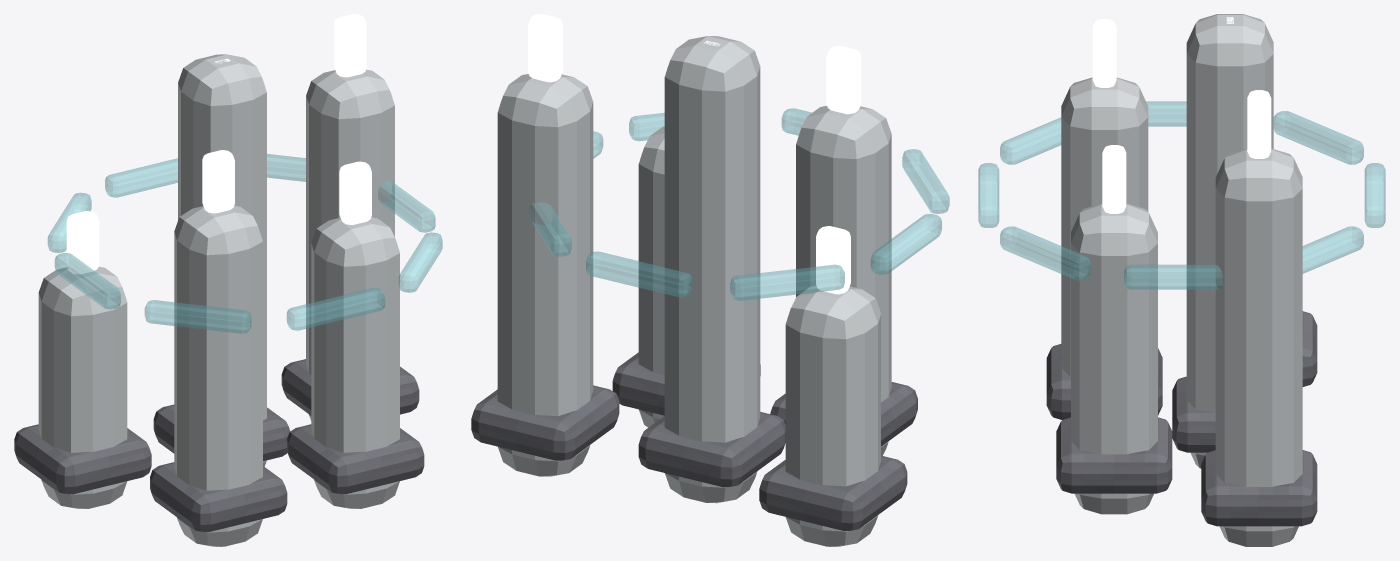
File: cult_airless_candle.glb
The picture shows the model from 3 angles, left to right: view 1: azimuth 30°, elevation 25°; view 2: azimuth 150°, elevation 25°; view 3: azimuth 270°, elevation 25°; orthographic projection. The views are drawn at different scales.
Parts seen in each view (by area): view 1: CULT_AIRLESS_CANDLE__Wax_2, CULT_AIRLESS_CANDLE__Wax_4, CULT_AIRLESS_CANDLE__Wax_1, CULT_AIRLESS_CANDLE__Wax_3, CULT_AIRLESS_CANDLE__Wax_5, CULT_AIRLESS_CANDLE__Oxygen_Fitting_2, CULT_AIRLESS_CANDLE__Oxygen_Fitting_4, CULT_AIRLESS_CANDLE__Oxygen_Fitting_1, CULT_AIRLESS_CANDLE__Pressure_Halo_06, CULT_AIRLESS_CANDLE__Pressure_Halo_05, CULT_AIRLESS_CANDLE__Flame_1, CULT_AIRLESS_CANDLE__Oxygen_Fitting_5 (+10 smaller); view 2: CULT_AIRLESS_CANDLE__Wax_3, CULT_AIRLESS_CANDLE__Wax_5, CULT_AIRLESS_CANDLE__Wax_1, CULT_AIRLESS_CANDLE__Wax_2, CULT_AIRLESS_CANDLE__Wax_4, CULT_AIRLESS_CANDLE__Oxygen_Fitting_1, CULT_AIRLESS_CANDLE__Oxygen_Fitting_5, CULT_AIRLESS_CANDLE__Oxygen_Fitting_3, CULT_AIRLESS_CANDLE__Pressure_Halo_08, CULT_AIRLESS_CANDLE__Pressure_Halo_01, CULT_AIRLESS_CANDLE__Flame_2, CULT_AIRLESS_CANDLE__Flame_1 (+7 smaller); view 3: CULT_AIRLESS_CANDLE__Wax_5, CULT_AIRLESS_CANDLE__Wax_4, CULT_AIRLESS_CANDLE__Wax_3, CULT_AIRLESS_CANDLE__Wax_2, CULT_AIRLESS_CANDLE__Oxygen_Fitting_5, CULT_AIRLESS_CANDLE__Oxygen_Fitting_4, CULT_AIRLESS_CANDLE__Pressure_Halo_03, CULT_AIRLESS_CANDLE__Pressure_Halo_08, CULT_AIRLESS_CANDLE__Pressure_Halo_04, CULT_AIRLESS_CANDLE__Oxygen_Fitting_3, CULT_AIRLESS_CANDLE__Oxygen_Fitting_2, CULT_AIRLESS_CANDLE__Pressure_Halo_02 (+8 smaller).
Boxes of the visible parts, x1,y1,x2,y2 form: CULT_AIRLESS_CANDLE__Wax_2: [174, 205, 262, 546]; CULT_AIRLESS_CANDLE__Wax_4: [311, 217, 399, 508]; CULT_AIRLESS_CANDLE__Wax_1: [38, 266, 127, 508]; CULT_AIRLESS_CANDLE__Wax_3: [178, 54, 266, 466]; CULT_AIRLESS_CANDLE__Wax_5: [306, 69, 394, 420]; CULT_AIRLESS_CANDLE__Oxygen_Fitting_2: [150, 462, 287, 532]; CULT_AIRLESS_CANDLE__Oxygen_Fitting_4: [287, 424, 424, 494]; CULT_AIRLESS_CANDLE__Oxygen_Fitting_1: [14, 424, 151, 494]; CULT_AIRLESS_CANDLE__Pressure_Halo_06: [144, 300, 251, 333]; CULT_AIRLESS_CANDLE__Pressure_Halo_05: [286, 287, 385, 330]; CULT_AIRLESS_CANDLE__Flame_1: [66, 211, 99, 274]; CULT_AIRLESS_CANDLE__Oxygen_Fitting_5: [281, 359, 419, 415]; CULT_AIRLESS_CANDLE__Wax_3: [664, 36, 760, 503]; CULT_AIRLESS_CANDLE__Wax_5: [497, 74, 593, 476]; CULT_AIRLESS_CANDLE__Wax_1: [785, 286, 880, 546]; CULT_AIRLESS_CANDLE__Wax_2: [796, 106, 891, 455]; CULT_AIRLESS_CANDLE__Wax_4: [638, 126, 664, 427]; CULT_AIRLESS_CANDLE__Oxygen_Fitting_1: [759, 455, 907, 530]; CULT_AIRLESS_CANDLE__Oxygen_Fitting_5: [471, 385, 619, 460]; CULT_AIRLESS_CANDLE__Oxygen_Fitting_3: [638, 412, 785, 487]; CULT_AIRLESS_CANDLE__Pressure_Halo_08: [730, 264, 844, 300]; CULT_AIRLESS_CANDLE__Pressure_Halo_01: [586, 251, 692, 297]; CULT_AIRLESS_CANDLE__Flame_2: [826, 46, 861, 114]; CULT_AIRLESS_CANDLE__Flame_1: [816, 226, 850, 294]; CULT_AIRLESS_CANDLE__Wax_5: [1215, 148, 1302, 546]; CULT_AIRLESS_CANDLE__Wax_4: [1071, 203, 1157, 514]; CULT_AIRLESS_CANDLE__Wax_3: [1186, 14, 1273, 468]; CULT_AIRLESS_CANDLE__Wax_2: [1061, 77, 1148, 376]; CULT_AIRLESS_CANDLE__Oxygen_Fitting_5: [1201, 450, 1317, 526]; CULT_AIRLESS_CANDLE__Oxygen_Fitting_4: [1056, 417, 1172, 493]; CULT_AIRLESS_CANDLE__Pressure_Halo_03: [1124, 264, 1222, 289]; CULT_AIRLESS_CANDLE__Pressure_Halo_08: [1273, 111, 1363, 164]; CULT_AIRLESS_CANDLE__Pressure_Halo_04: [1000, 226, 1090, 280]; CULT_AIRLESS_CANDLE__Oxygen_Fitting_3: [1172, 376, 1215, 452]; CULT_AIRLESS_CANDLE__Oxygen_Fitting_2: [1046, 344, 1162, 419]; CULT_AIRLESS_CANDLE__Pressure_Halo_02: [1302, 226, 1363, 273].
Bounding box in the file's own units: 0.46 × 0.51 × 0.422.
4 materials, 1 textured.
